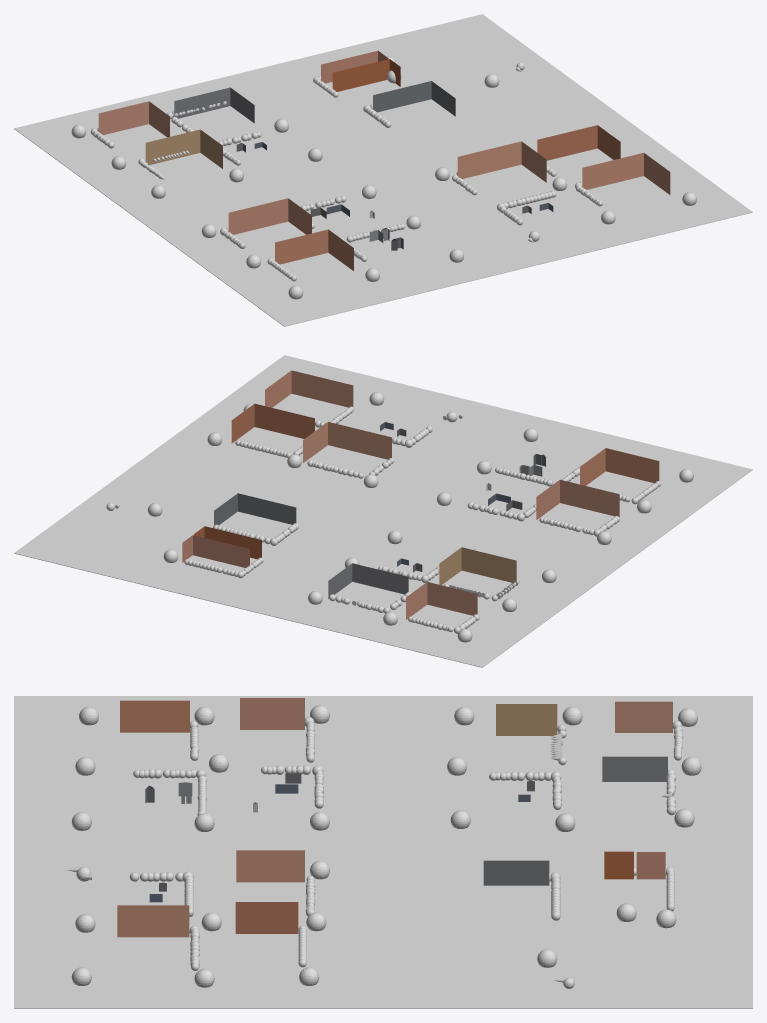
File: scene_731fd578-9bba-4818-b901-db3d55b53f1f.glb
3 views of the same model, one above another, from view 1: azimuth 30°, elevation 25°; view 2: azimuth 150°, elevation 25°; view 3: azimuth 270°, elevation 25° (orthographic). The views are drawn at different scales.
Visible parts, largest first — view 1: Ground_Base, BLD-014, BLD-006, BLD-015, BLD-011, BLD-007, BLD-019, BLD-023, BLD-018, BLD-022, BLD-020, BLD-021; view 2: Ground_Base, BLD-014, BLD-006, BLD-015, BLD-011, BLD-007, BLD-019, BLD-023, BLD-018, BLD-022, BLD-021, BLD-020; view 3: Ground_Base, BLD-006, BLD-007, BLD-014, BLD-015, BLD-011, BLD-019, BLD-023, BLD-018, BLD-022, BLD-020, BLD-021.
Part boxes in pixels (x1,y1,x2,y2): Ground_Base: (14, 14, 752, 326); BLD-014: (457, 141, 546, 182); BLD-006: (582, 152, 670, 194); BLD-015: (228, 198, 311, 234); BLD-011: (537, 125, 620, 160); BLD-007: (275, 229, 353, 270); BLD-019: (145, 129, 222, 168); BLD-023: (98, 101, 169, 137); BLD-018: (373, 81, 455, 116); BLD-022: (174, 87, 254, 123); BLD-020: (332, 59, 400, 91); BLD-021: (321, 50, 388, 83); Ground_Base: (14, 355, 752, 667); BLD-014: (303, 422, 391, 462); BLD-006: (265, 370, 353, 407); BLD-015: (536, 479, 619, 519); BLD-011: (231, 403, 314, 443); BLD-007: (580, 448, 659, 485); BLD-019: (439, 547, 516, 585); BLD-023: (406, 582, 477, 619); BLD-018: (214, 493, 296, 525); BLD-022: (328, 563, 408, 598); BLD-021: (182, 535, 249, 567); BLD-020: (194, 526, 261, 559); Ground_Base: (14, 696, 752, 1008); BLD-006: (117, 905, 189, 937); BLD-007: (120, 700, 189, 732); BLD-014: (236, 850, 304, 882); BLD-015: (240, 698, 304, 729); BLD-011: (235, 902, 298, 933); BLD-019: (496, 704, 557, 735); BLD-023: (615, 701, 672, 732); BLD-018: (483, 860, 549, 885); BLD-022: (602, 756, 667, 781); BLD-020: (604, 851, 633, 879); BLD-021: (636, 852, 665, 879).
Size of the model in its own units: 410 by 23.27 by 410.
